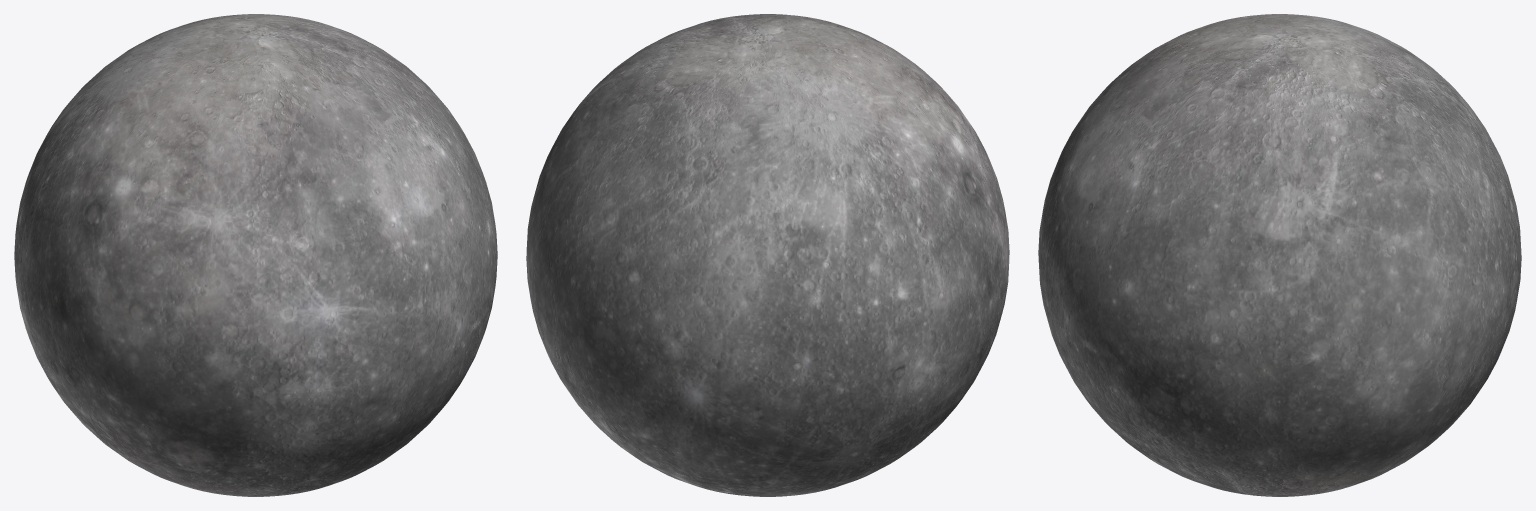
Rendered from mercury.glb.
The picture shows the model from 3 angles, left to right: view 1: azimuth 30°, elevation 25°; view 2: azimuth 150°, elevation 25°; view 3: azimuth 270°, elevation 25°; orthographic projection.
Parts seen in each view (by area): view 1: Sphere.001; view 2: Sphere.001; view 3: Sphere.001.
Boxes of the visible parts, x1,y1,x2,y2 form: Sphere.001: [14, 14, 497, 496]; Sphere.001: [526, 14, 1009, 496]; Sphere.001: [1038, 14, 1521, 496].
Bounding box in the file's own units: 2.02 × 2.02 × 2.02.
1 material, 1 textured.
